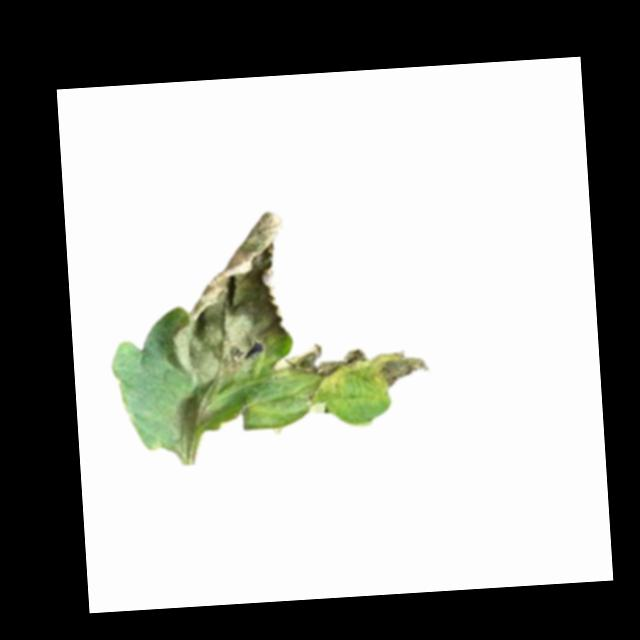Late_blight: (156, 212, 294, 389), (269, 340, 370, 393), (168, 389, 225, 457), (369, 347, 433, 388), (303, 389, 335, 416)
